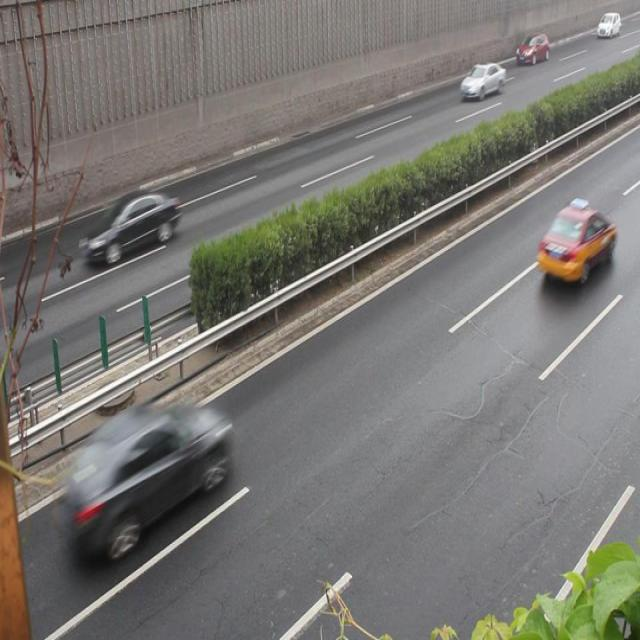car: (62, 406, 230, 556), (80, 188, 179, 268), (535, 200, 613, 284), (458, 60, 506, 102), (514, 32, 549, 68)
